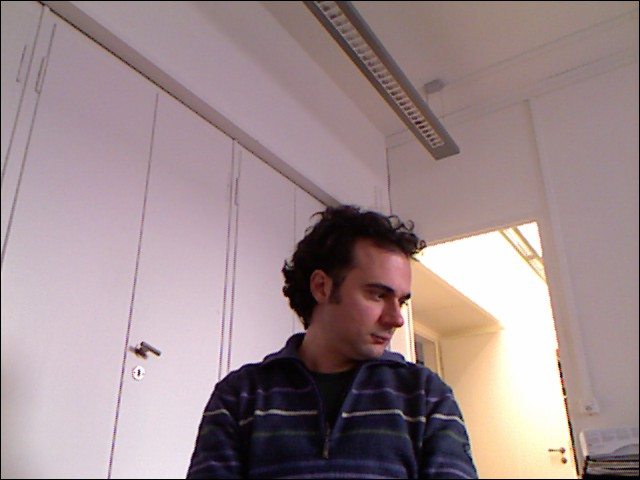deflection: (224, 207, 460, 480)
